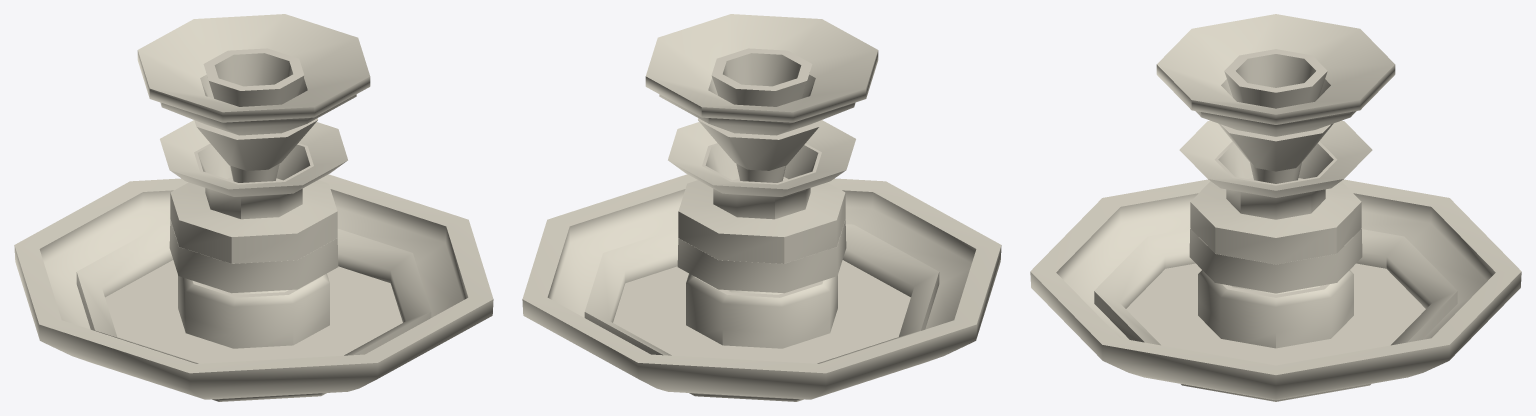
The model's file is fuente.obj.
The picture shows the model from 3 angles, left to right: view 1: azimuth 30°, elevation 25°; view 2: azimuth 150°, elevation 25°; view 3: azimuth 270°, elevation 25°; orthographic projection.
Parts seen in each view (by area): view 1: fountain_lambert2_0; view 2: fountain_lambert2_0; view 3: fountain_lambert2_0.
Part boxes in pixels (x1,y1,x2,y2): fountain_lambert2_0: (14, 14, 493, 401); fountain_lambert2_0: (522, 14, 1001, 401); fountain_lambert2_0: (1030, 14, 1521, 401).
Size of the model in its own units: 0.1848 by 0.1168 by 0.1848.
